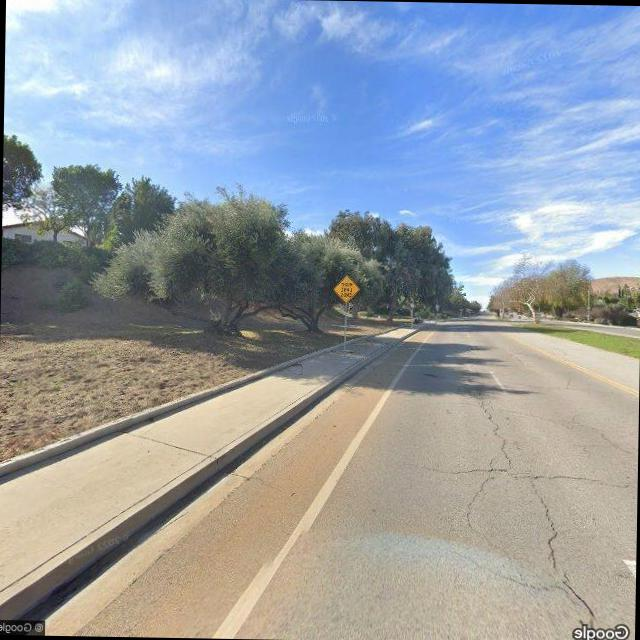crack: (418, 386, 638, 632)
pothole: (532, 477, 602, 625), (472, 386, 518, 468)
